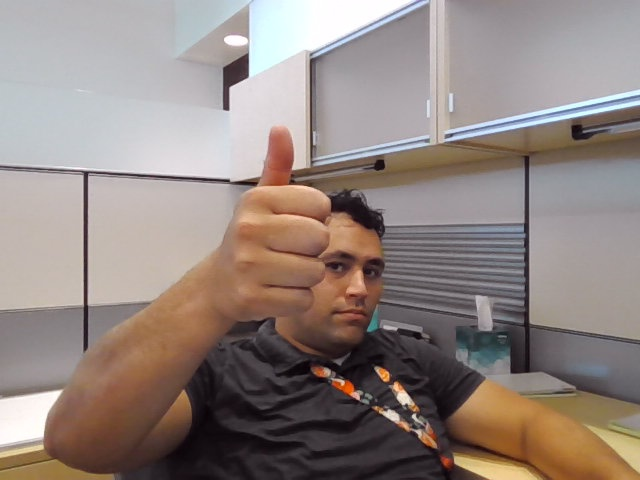ThumbsUp: (222, 124, 332, 324)
